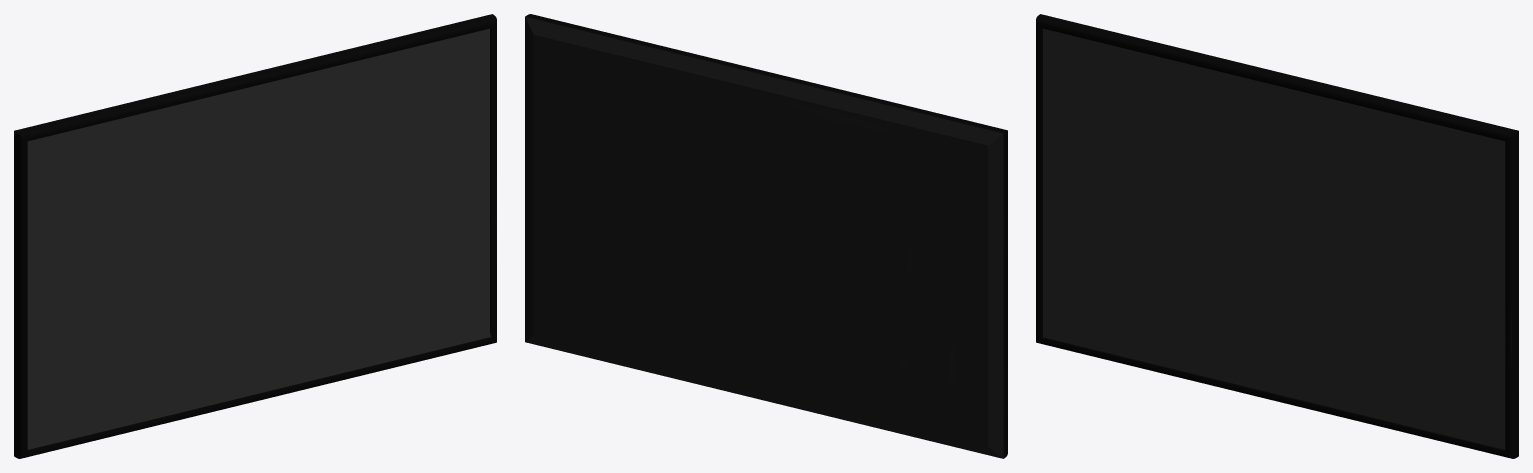
3 views of the same model, side by side, from view 1: azimuth 30°, elevation 25°; view 2: azimuth 150°, elevation 25°; view 3: azimuth 330°, elevation 25° (orthographic).
Parts seen in each view (by area): view 1: 00_TV_26x40; view 2: 00_TV_26x40; view 3: 00_TV_26x40.
Boxes of the visible parts, box(x1,y1,x2,y2) form: 00_TV_26x40: box(14, 14, 496, 458); 00_TV_26x40: box(525, 14, 1007, 458); 00_TV_26x40: box(1036, 14, 1518, 458).
Bounding box in the file's own units: 400 × 260 × 14.26.
